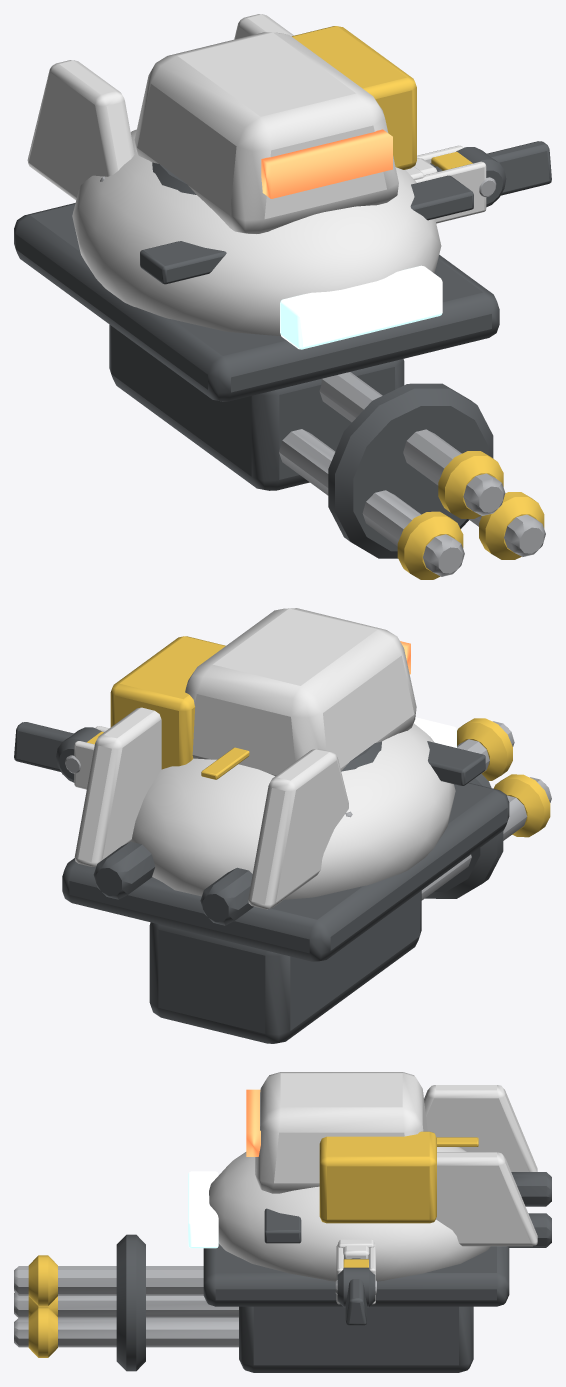
Rendered from burst.glb.
The picture shows the model from 3 angles, top to bottom: view 1: azimuth 30°, elevation 25°; view 2: azimuth 150°, elevation 25°; view 3: azimuth 270°, elevation 25°; orthographic projection. The views are drawn at different scales.
Parts seen in each view (by area): view 1: Hull, Barrel, Turret, LegUpper, LegLower; view 2: Hull, Turret, Barrel, LegLower, LegUpper; view 3: Hull, Barrel, Turret, LegUpper, LegLower.
Boxes of the visible parts, x1,y1,x2,y2 form: Hull: [14, 14, 499, 401]; Barrel: [109, 324, 545, 579]; Turret: [134, 26, 416, 233]; LegUpper: [405, 145, 506, 223]; LegLower: [414, 141, 551, 195]; Hull: [62, 707, 509, 961]; Turret: [110, 608, 416, 776]; Barrel: [149, 718, 551, 1043]; LegLower: [14, 722, 103, 771]; LegUpper: [56, 726, 108, 789]; Hull: [188, 1085, 551, 1306]; Barrel: [14, 1234, 473, 1372]; Turret: [246, 1072, 436, 1223]; LegUpper: [335, 1239, 376, 1307]; LegLower: [343, 1246, 369, 1325].
Size of the model in its own units: 0.615 by 0.496 by 0.88.
